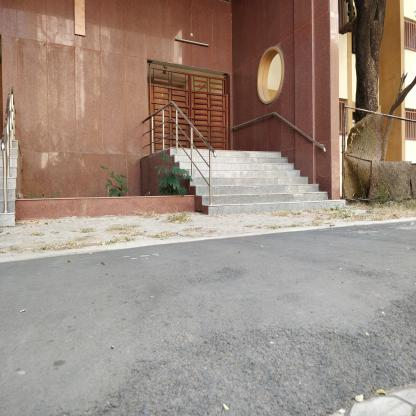stairs: (218, 149, 283, 219)
